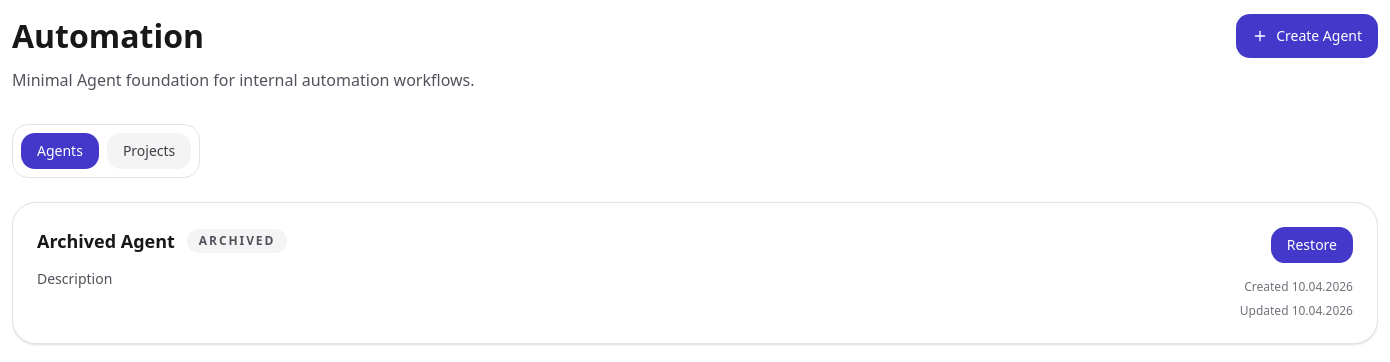
Scenario: AutomationPage › givenArchivedAgent_whenRestoreCtaClicked_thenRestoresAgentAndShowsActivateCta
The width and height of the screenshot is (1390, 362).
Step 1. Click the button "Restore" → (1312, 245), box [1271,227,1353,263]
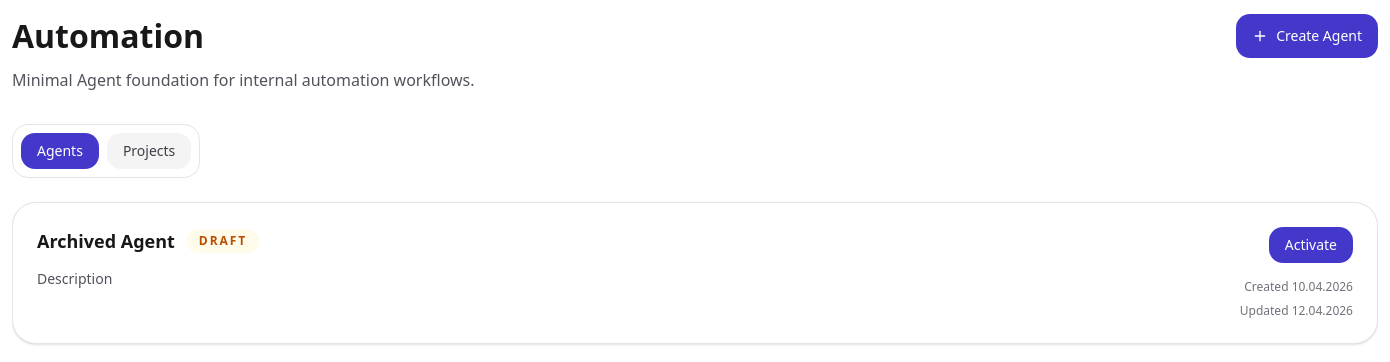
Check: the text "DRAFT" is shown, box [187,229,259,253]
Check: the button "Activate" is shown, box [1269,227,1353,263]
